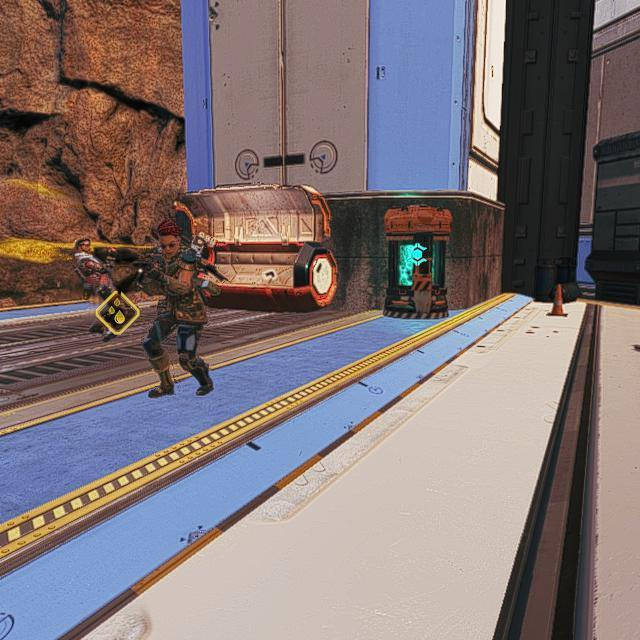avatar: (135, 219, 217, 401), (72, 237, 114, 303)
